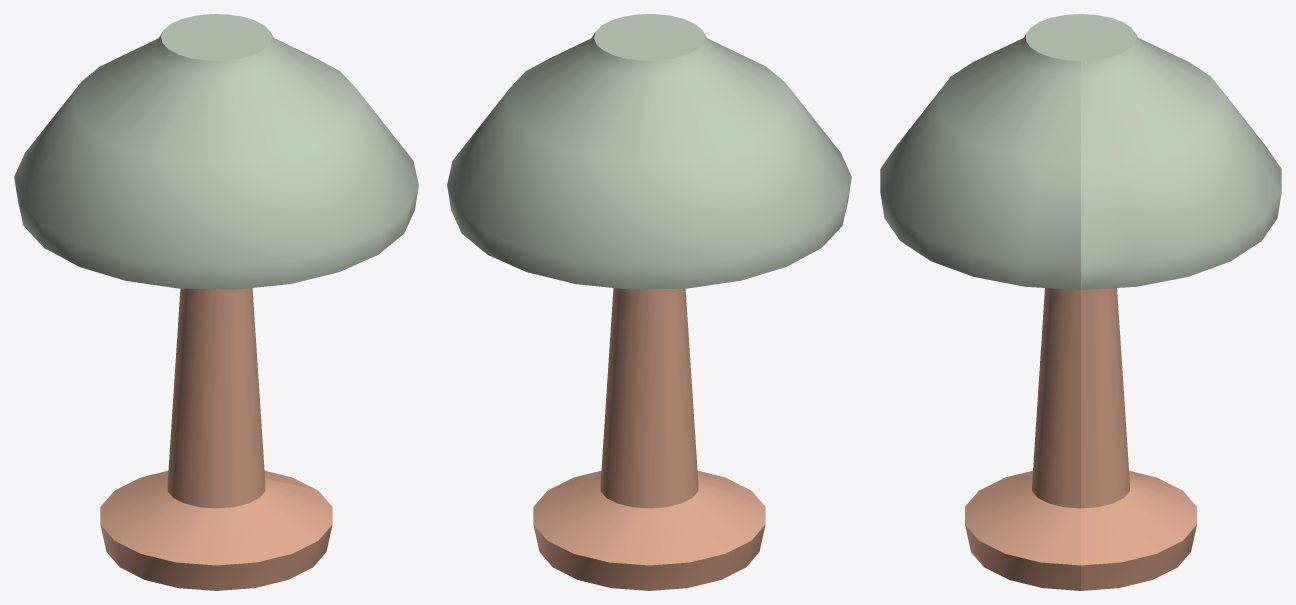
The model's file is model-lounge-furniture-lamp-c92e1cb9eb8f.glb.
3 views of the same model, side by side, from view 1: azimuth 30°, elevation 25°; view 2: azimuth 150°, elevation 25°; view 3: azimuth 270°, elevation 25° (orthographic).
Parts seen in each view (by area): view 1: table-lamp-dome; view 2: table-lamp-dome; view 3: table-lamp-dome.
Boxes of the visible parts, x1,y1,x2,y2 form: table-lamp-dome: (14, 14, 418, 590); table-lamp-dome: (447, 14, 851, 590); table-lamp-dome: (880, 14, 1281, 590).
Size of the model in its own units: 0.3264 by 0.45 by 0.3231.
